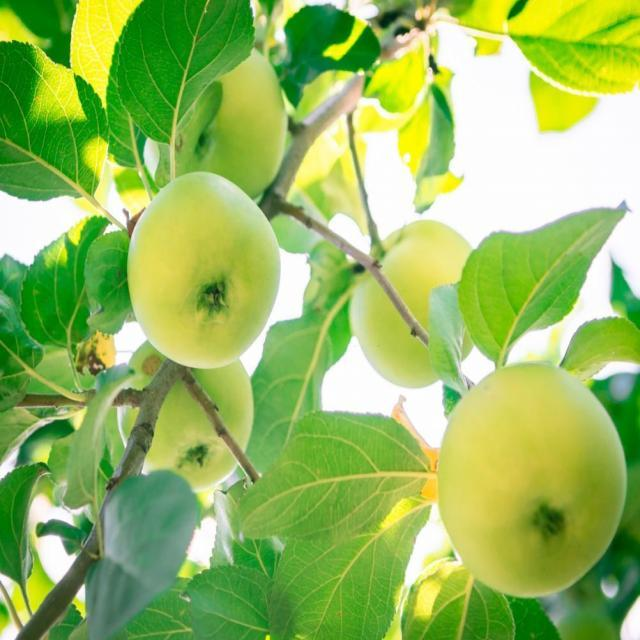Green Apple: (452, 366, 628, 599), (134, 171, 278, 357), (358, 207, 486, 378), (125, 338, 260, 488), (177, 43, 295, 187)
